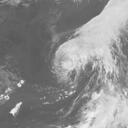cyclone: (52, 38, 89, 77)
